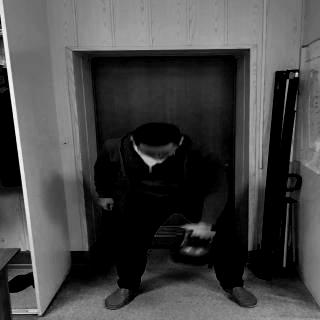kettlebell: (167, 230, 220, 268)
